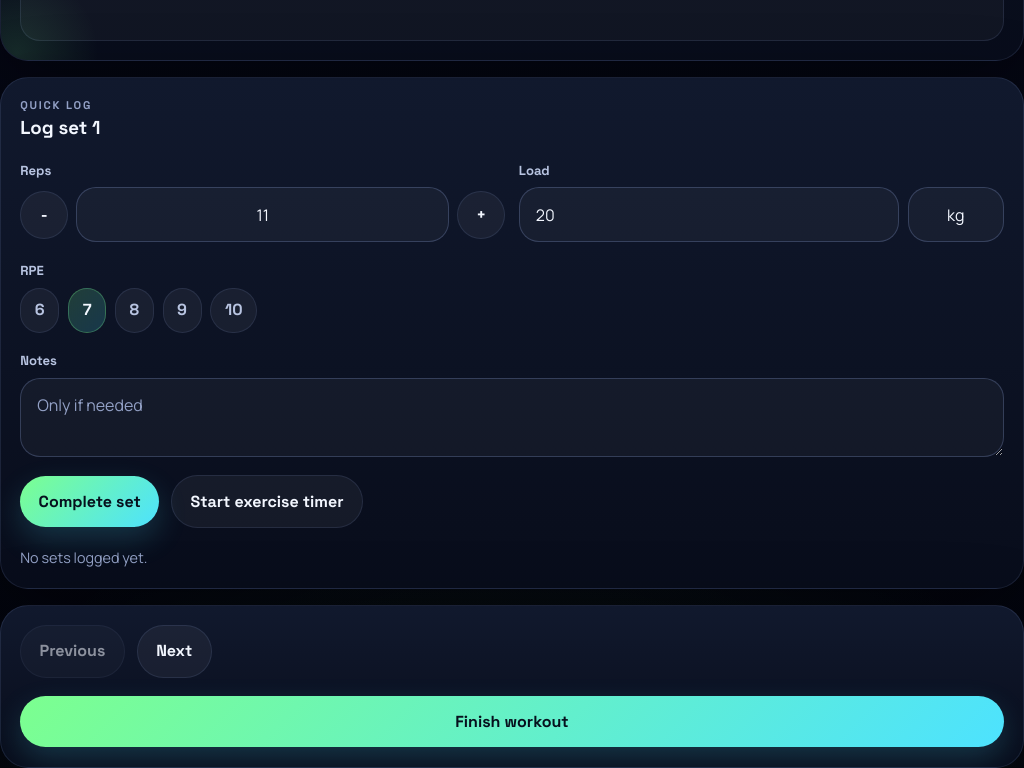
Test: session runner page › shows an error banner when set logging fails
The image size is (1024, 768).
(page scrolled)
Click the button "Complete set": (90, 502) [20,476,159,528]
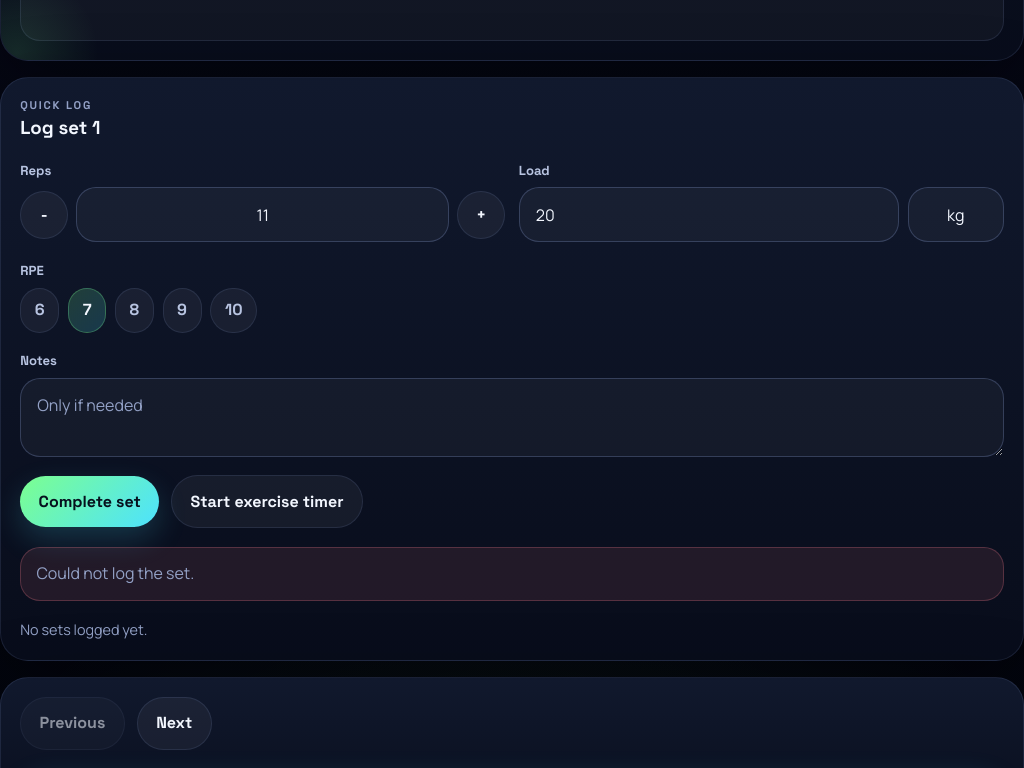
Now the text "Could not log the set." is shown, box [20,547,1004,601]
